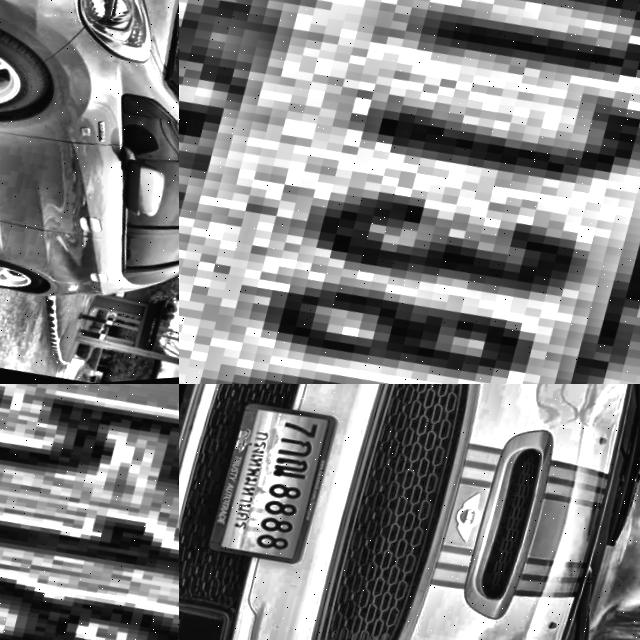license-plate: (179, 0, 640, 384), (0, 384, 179, 640), (205, 395, 342, 573)
